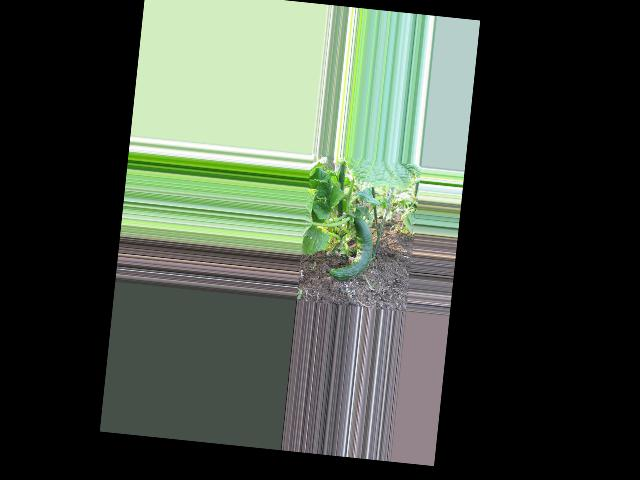cucumber: (328, 213, 376, 282)
